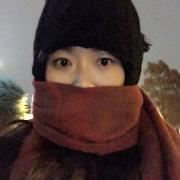WRONG: (37, 40, 136, 139)
